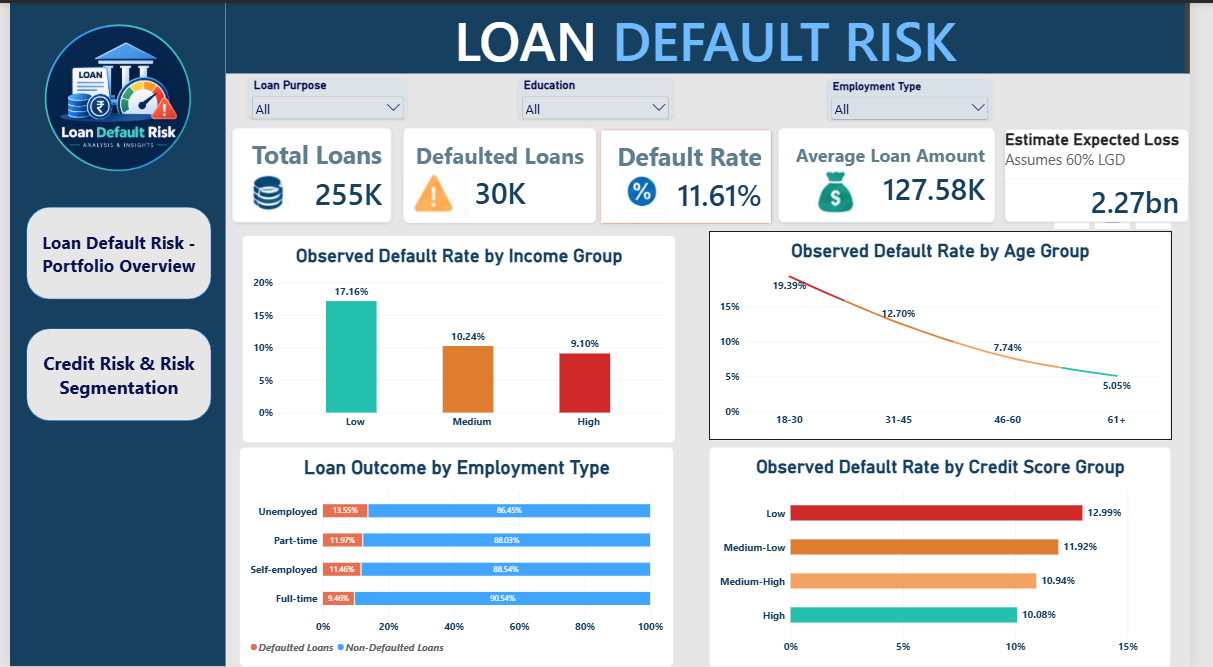

What the dashboard file says about the page in this screenshot:
{"tool":"powerbi","page":{"name":"Portfolio Overview","canvas":[1920,1080],"ordinal":0},"visuals":[{"type":"cardVisual","fields":{"Data":["Loan_Default.Total Loans"]},"box":[360.3,202.8,260.1,155.1],"z":0},{"type":"cardVisual","fields":{"Data":["Loan_Default.Default Rate"]},"box":[958.8,204.9,281.5,155.1],"z":1000},{"type":"cardVisual","fields":{"Data":["Loan_Default.Defaulted Loans"]},"box":[639.2,202.5,314.7,156.1],"z":2000},{"type":"cardVisual","fields":{"Data":["Loan_Default.Average Loan Amount"]},"box":[1249.2,202.5,353.1,155.1],"z":3000},{"type":"clusteredColumnChart","title":"Observed Default Rate by Income Group","fields":{"Category":["Loan_Default.Income Group"],"Y":["Loan_Default.Default Rate"]},"box":[377,377,703.8,336.4],"z":4000},{"type":"lineChart","title":"Observed Default Rate by Age Group","fields":{"Category":["Loan_Default.Age Group"],"Y":["Loan_Default.Default Rate"]},"box":[1138.1,369.8,751.6,341.2],"z":5000},{"type":"clusteredBarChart","title":"Observed Default Rate by Credit Score Group","fields":{"Category":["Loan_Default.Credit Score Group"],"Y":["Loan_Default.Default Rate"]},"box":[1138.1,722.9,751.6,357.9],"z":6000},{"type":"hundredPercentStackedBarChart","title":"Loan Outcome by Employment Type","fields":{"Category":["Loan_Default.EmploymentType"],"Y":["Loan_Default.Defaulted Loans","Loan_Default.Non-Defaulted Loans"]},"box":[372.2,722.9,706.2,357.9],"z":7000},{"type":"textbox","box":[350.7,0,1567.5,114.5],"z":8000},{"type":"textbox","box":[0,0,350.7,1078.4],"z":9000},{"type":"shape","box":[26.2,331.6,300.6,150.3],"z":10000},{"type":"image","box":[26.2,0,300.6,314.9],"z":11000},{"type":"shape","box":[26.2,529.7,300.6,150.3],"z":12000},{"type":"image","box":[351.3,268.4,139.1,78.1],"z":13000},{"type":"image","box":[646.6,268.4,100.2,88.3],"z":14000},{"type":"image","box":[954,268.4,156.1,85.4],"z":15000},{"type":"image","box":[1263.8,268.4,161,78.1],"z":16000},{"type":"slicer","fields":{"Values":["Loan_Default.LoanPurpose"]},"box":[388.9,121.7,257.7,66.8],"z":17000},{"type":"slicer","fields":{"Values":["Loan_Default.Education"]},"box":[827.9,121.7,250.5,66.8],"z":18000},{"type":"slicer","fields":{"Values":["Loan_Default.EmploymentType"]},"box":[1329,124.1,267.2,66.8],"z":19000},{"type":"image","box":[1649.3,275.7,119.3,76.3],"z":20000},{"type":"cardVisual","title":"Estimate Expected Loss","fields":{"Data":["Loan_Default.Estimate Expected Loss"]},"box":[1617.6,204.9,300.1,152],"z":21000}]}

Visuals, with their boxes in screenshot pixels (x1, y1, x2, y2), scaled from the page's 1920x1080 canvas onto the 1213x667 screenshot:
cardVisual - Loan_Default.Total Loans: left=228, top=125, right=392, bottom=221
cardVisual - Loan_Default.Default Rate: left=606, top=127, right=784, bottom=222
cardVisual - Loan_Default.Defaulted Loans: left=404, top=125, right=603, bottom=221
cardVisual - Loan_Default.Average Loan Amount: left=789, top=125, right=1012, bottom=221
"Observed Default Rate by Income Group" clusteredColumnChart: left=238, top=233, right=683, bottom=441
"Observed Default Rate by Age Group" lineChart: left=719, top=228, right=1194, bottom=439
"Observed Default Rate by Credit Score Group" clusteredBarChart: left=719, top=446, right=1194, bottom=666
"Loan Outcome by Employment Type" hundredPercentStackedBarChart: left=235, top=446, right=681, bottom=666
textbox: left=222, top=0, right=1212, bottom=71
textbox: left=0, top=0, right=222, bottom=666
shape: left=17, top=205, right=206, bottom=298
image: left=17, top=0, right=206, bottom=194
shape: left=17, top=327, right=206, bottom=420
image: left=222, top=166, right=310, bottom=214
image: left=409, top=166, right=472, bottom=220
image: left=603, top=166, right=701, bottom=219
image: left=798, top=166, right=900, bottom=214
slicer - Loan_Default.LoanPurpose: left=246, top=75, right=409, bottom=116
slicer - Loan_Default.Education: left=523, top=75, right=681, bottom=116
slicer - Loan_Default.EmploymentType: left=840, top=77, right=1008, bottom=118
image: left=1042, top=170, right=1117, bottom=217
"Estimate Expected Loss" cardVisual: left=1022, top=127, right=1212, bottom=220
